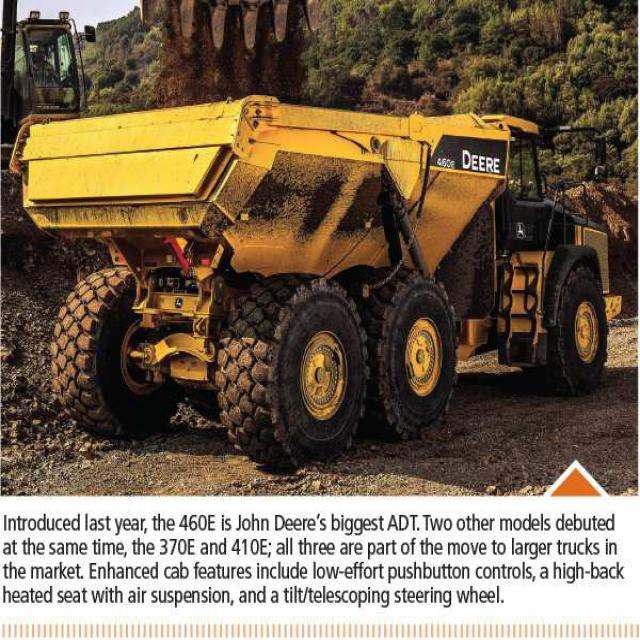dump_truck: (19, 99, 639, 463)
